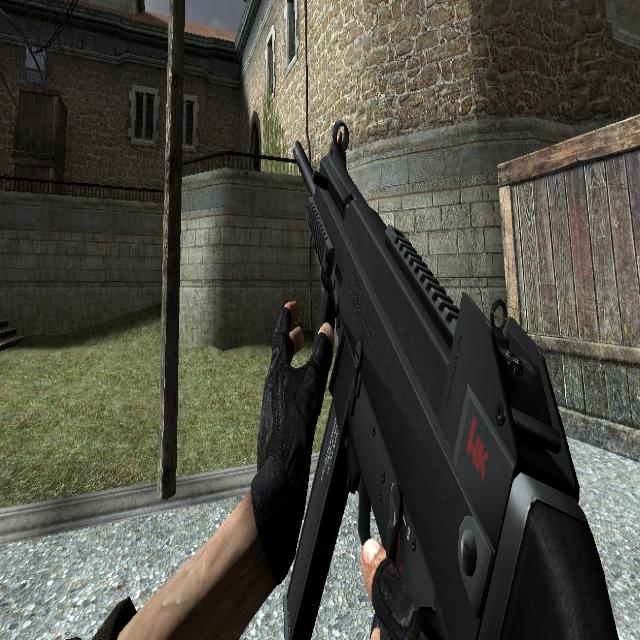SMG: (284, 124, 619, 640)
